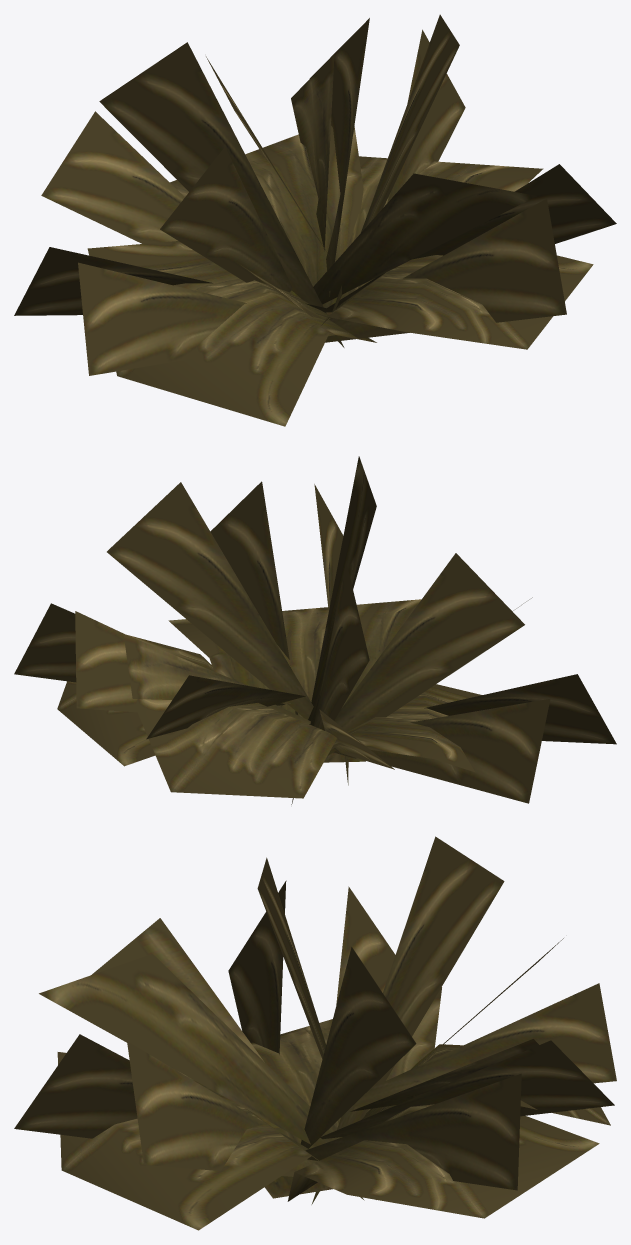
File: Scene_Grass_ZaCao_2.FBX
3 views of the same model, one above another, from view 1: azimuth 30°, elevation 25°; view 2: azimuth 150°, elevation 25°; view 3: azimuth 270°, elevation 25° (orthographic). The views are drawn at different scales.
Parts seen in each view (by area): view 1: Scene_Grass_ZaCao_2; view 2: Scene_Grass_ZaCao_2; view 3: Scene_Grass_ZaCao_2.
Part boxes in pixels (x1=…): Scene_Grass_ZaCao_2: x1=14, y1=14, x2=616, y2=426; Scene_Grass_ZaCao_2: x1=14, y1=456, x2=616, y2=804; Scene_Grass_ZaCao_2: x1=14, y1=836, x2=616, y2=1230.
Bounding box in the file's own units: 115 × 63.73 × 108.
